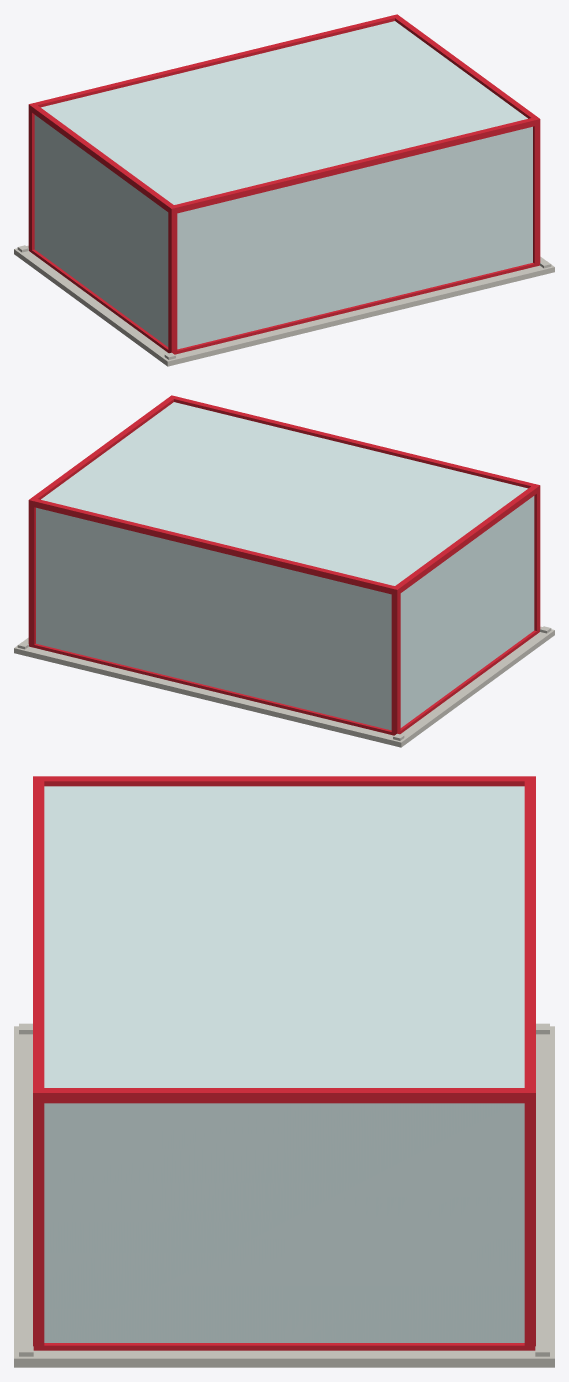
The model's file is excavator-udirdlagatai-895991.glb.
3 renders of one model, top to bottom at view 1: azimuth 30°, elevation 25°; view 2: azimuth 150°, elevation 25°; view 3: azimuth 270°, elevation 25°, orthographic. The views are drawn at different scales.
Bounding box in the file's own units: 0.48 × 0.1795 × 0.33.
